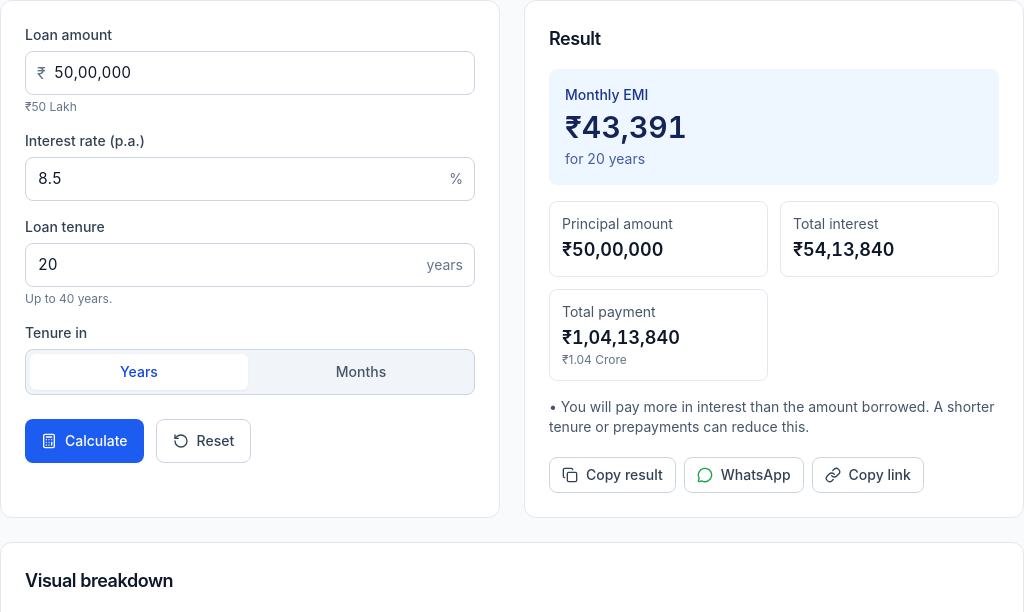
FormTool (EMI calculator) › recalculates instantly and accepts Indian-formatted numbers
The width and height of the screenshot is (1024, 612).
Replace the text in the field labelled "Loan amount" with "10,00,000" at (250, 73), box top-left (25, 51), bottom-right (475, 95)
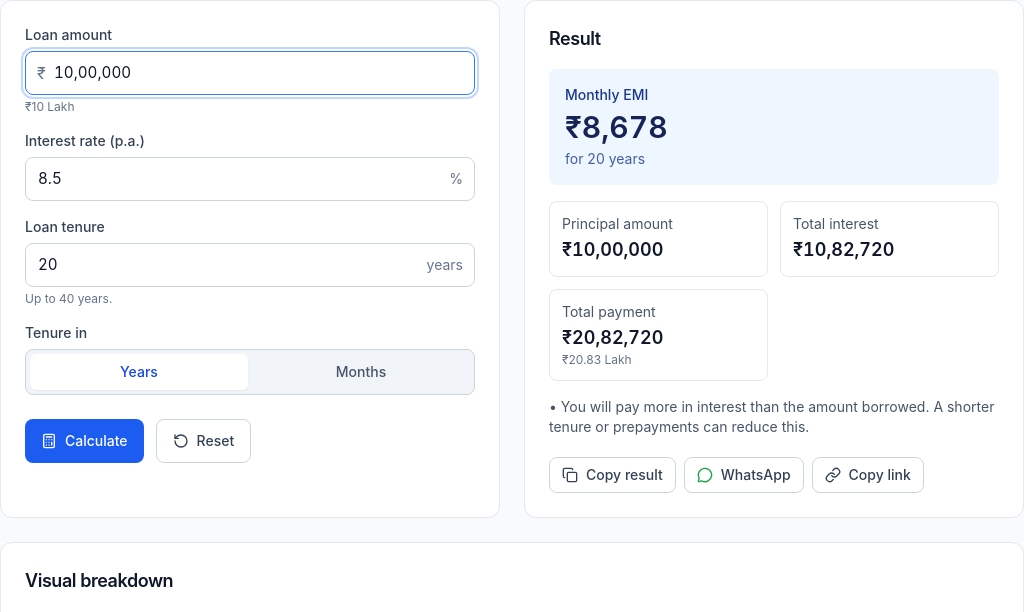
Result: the text "₹8,678" is shown at top-left (565, 109), bottom-right (668, 145)
